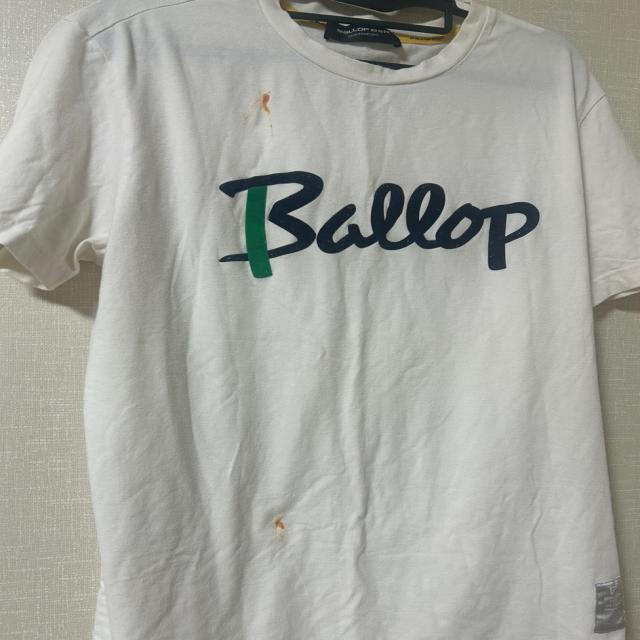stain: (254, 90, 280, 114), (276, 514, 288, 530)
